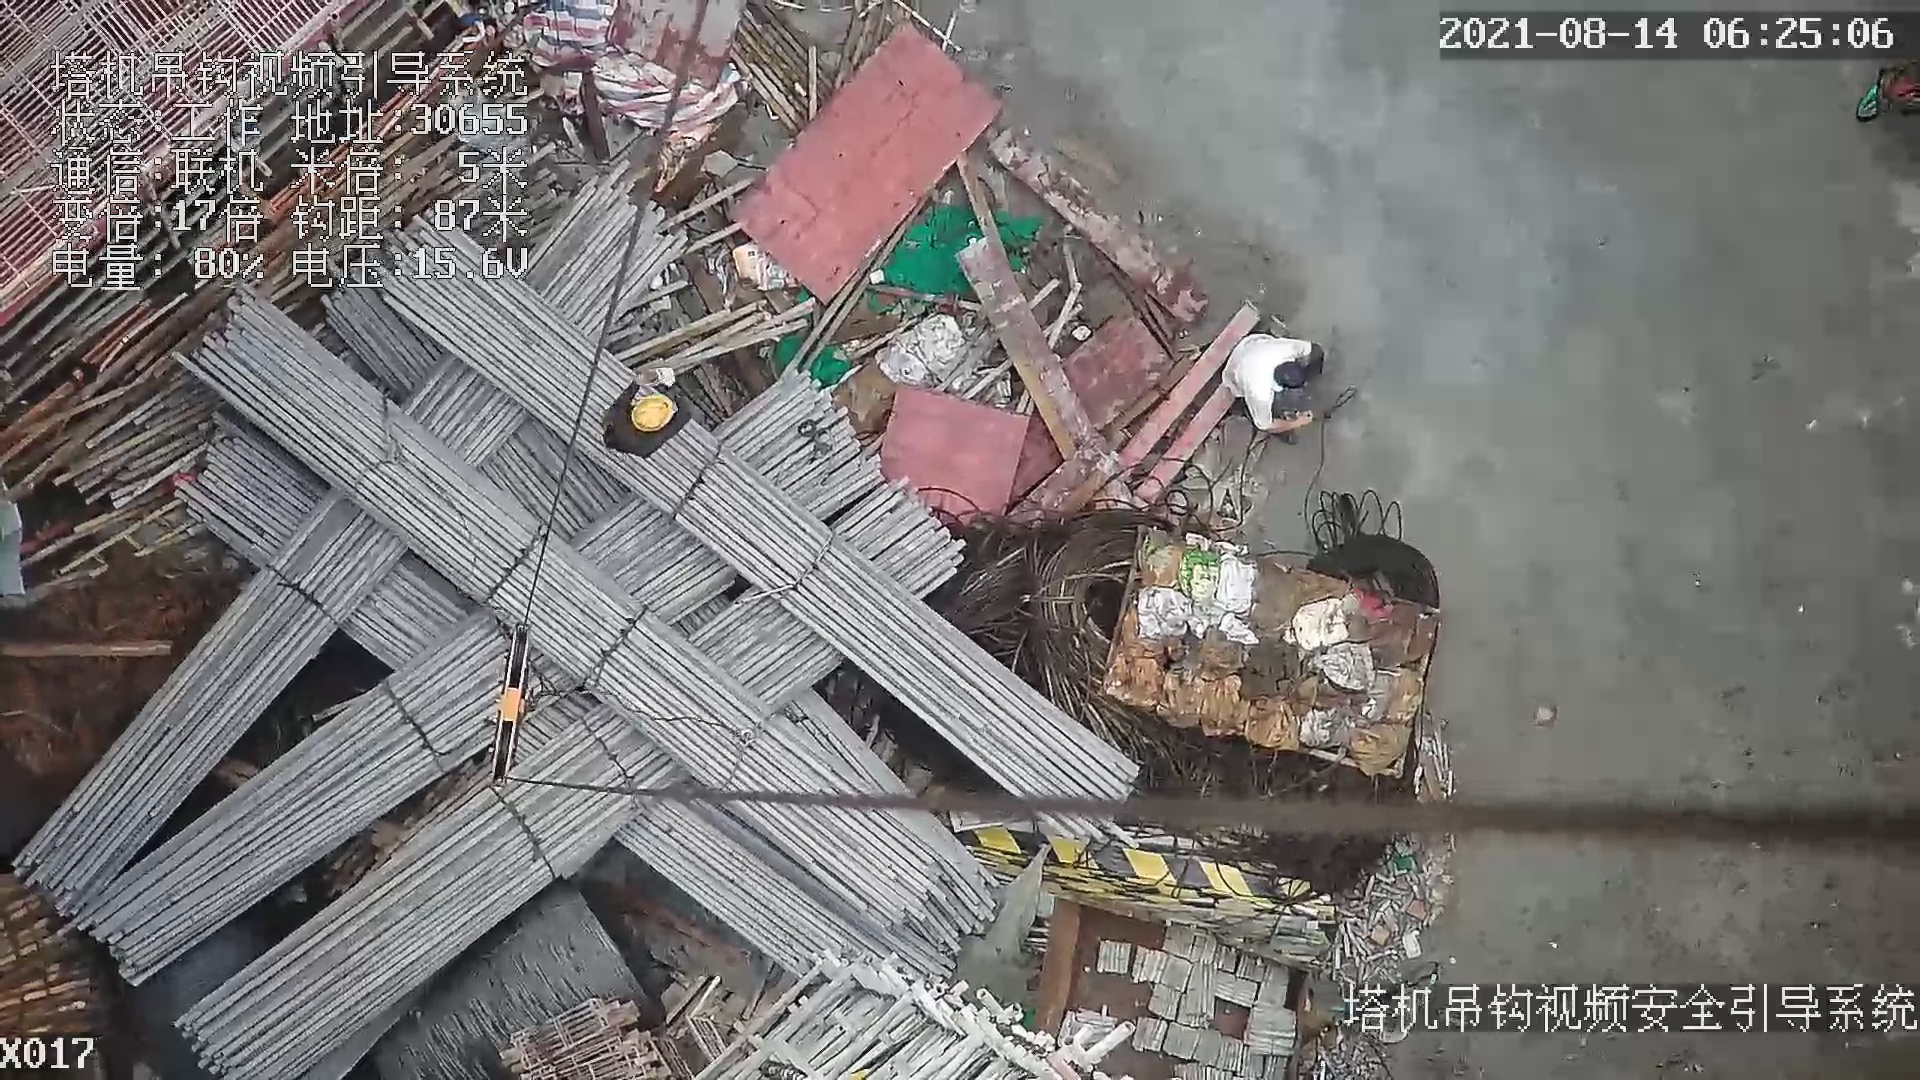helmet: (633, 393, 673, 434)
hook: (481, 613, 538, 787)
person: (1213, 327, 1326, 440), (596, 367, 694, 465)
